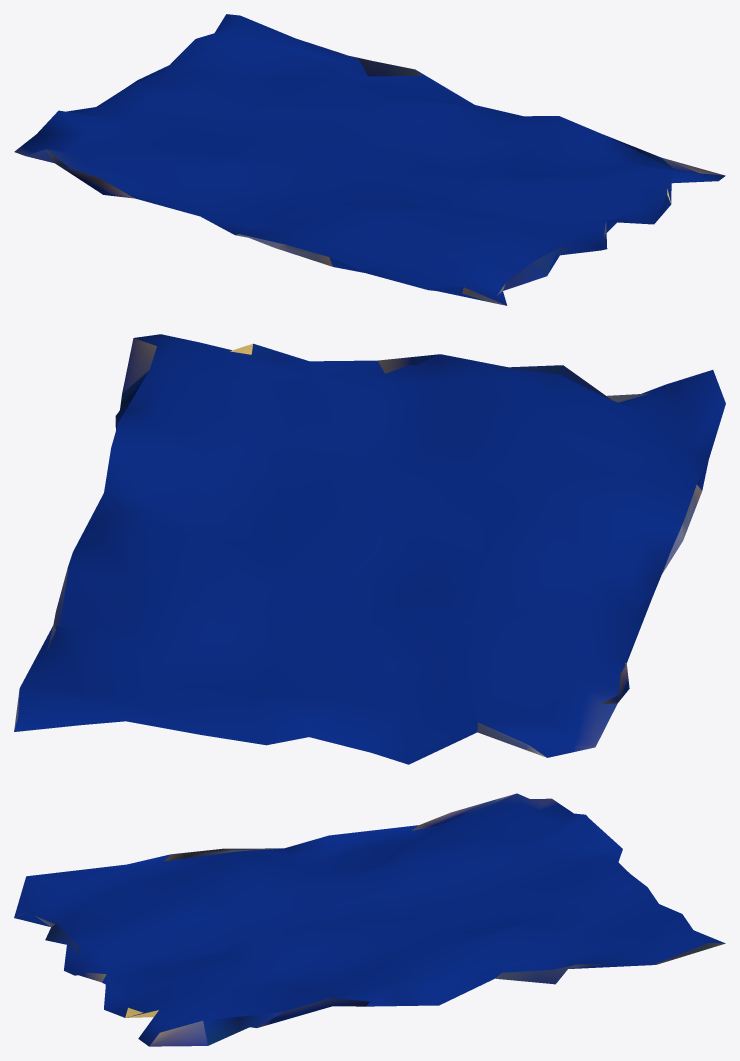
Rendered from Wrapper3.fbx.
3 views of the same model, one above another, from view 1: azimuth 30°, elevation 25°; view 2: azimuth 150°, elevation 25°; view 3: azimuth 270°, elevation 25° (orthographic). The views are drawn at different scales.
Parts seen in each view (by area): view 1: Wrapper3; view 2: Wrapper3; view 3: Wrapper3.
Boxes of the visible parts, bbox=[...] form: Wrapper3: bbox=[14, 14, 725, 305]; Wrapper3: bbox=[14, 334, 725, 764]; Wrapper3: bbox=[14, 793, 725, 1046].
Bounding box in the file's own units: 12.02 × 0.648 × 14.59.
